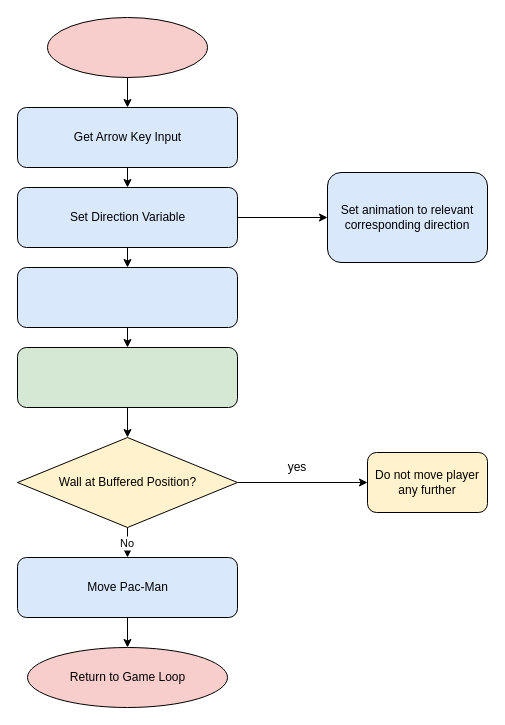
Some shapes in this 505 by 725 pixel diagram are drawn without their labels. The box of each missing label's shape, as (x1, y1, x2, y2) in pixels:
Apply Buffer / Variance: (16, 346, 238, 408)
Calculate Next Position: (16, 266, 238, 328)
Game Loop Start: (46, 16, 208, 78)
